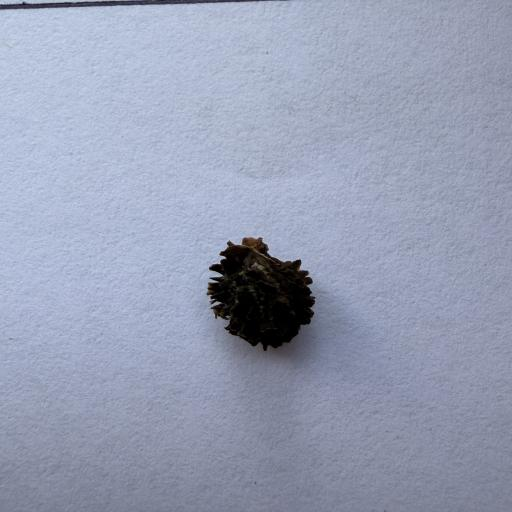papaya_seed: (198, 226, 335, 357)
